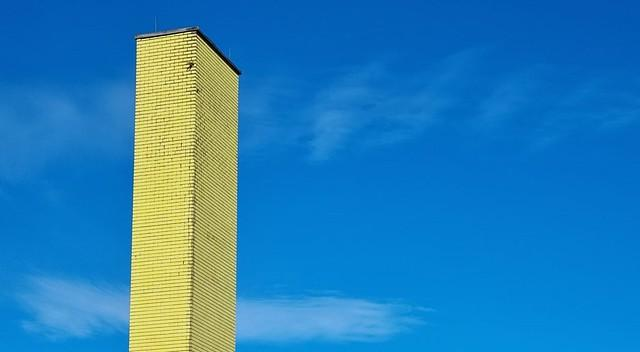building: (121, 18, 244, 352)
